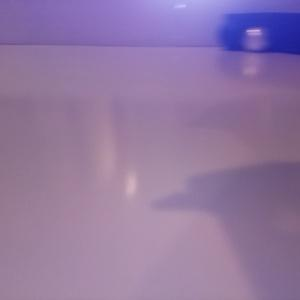alive_ball: (239, 27, 269, 52)
dead_ball: (219, 21, 247, 51)
